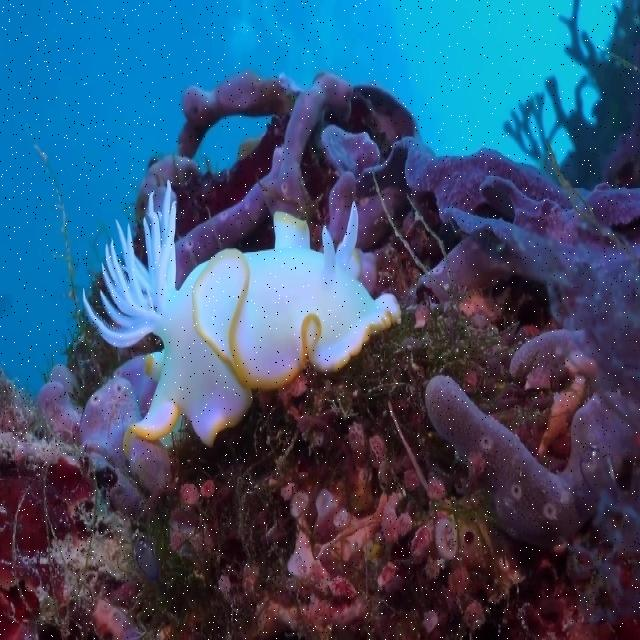reefs: (138, 68, 639, 544), (82, 188, 400, 447), (0, 357, 187, 639), (280, 486, 531, 625)
